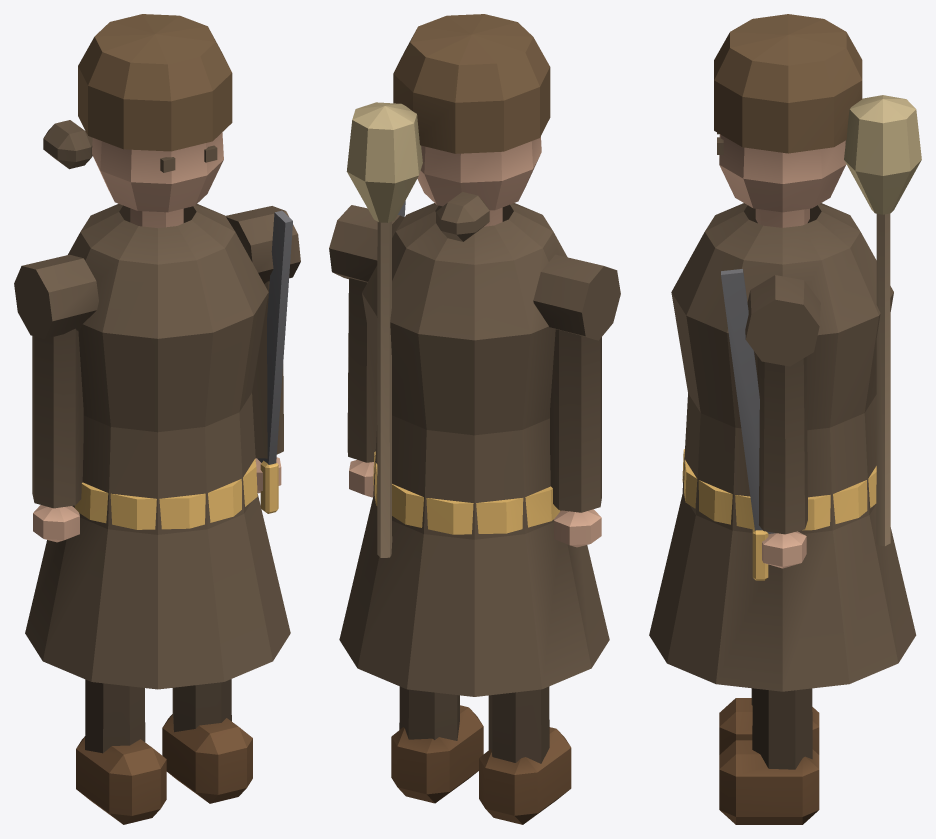
File: unit_oprichnik.glb
3 renders of one model, left to right at view 1: azimuth 30°, elevation 25°; view 2: azimuth 150°, elevation 25°; view 3: azimuth 270°, elevation 25°, orthographic.
Parts seen in each view (by area): view 1: unit_oprichnik; view 2: unit_oprichnik; view 3: unit_oprichnik.
Boxes of the visible parts, x1,y1,x2,y2 form: unit_oprichnik: [14, 14, 300, 824]; unit_oprichnik: [329, 14, 620, 824]; unit_oprichnik: [649, 14, 921, 824].
Size of the model in its own units: 0.26 by 0.755 by 0.245.
